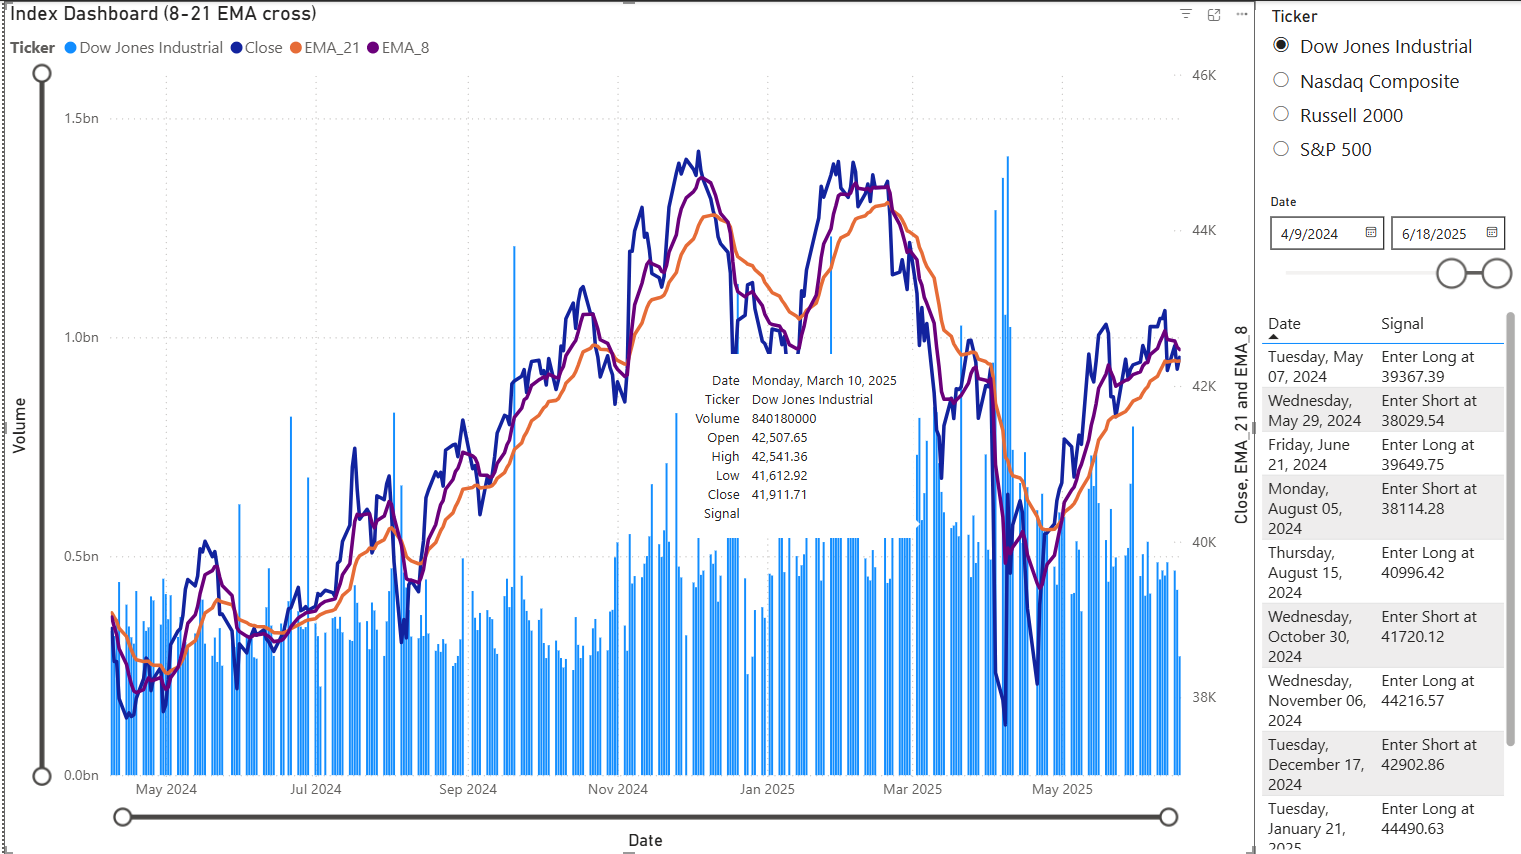

The page's visual inventory and layout, read from the dashboard file:
{"tool":"powerbi","page":{"name":"Page 1","canvas":[1280,720],"ordinal":0},"visuals":[{"type":"slicer","fields":{"Values":["dataset (2).Ticker"]},"box":[1055.5,0,224.5,158.2],"z":0},{"type":"lineStackedColumnComboChart","title":"Index Dashboard (8-21 EMA cross)","fields":{"Y":["Sum(dataset.Volume)"],"Y2":["Sum(dataset.Close)","Sum(dataset.EMA_21)","Sum(dataset.EMA_8)"],"Category":["dataset.Date"],"Series":["dataset.Ticker"]},"box":[0,0,1055,720],"z":1000},{"type":"slicer","fields":{"Values":["dataset.Date"]},"box":[1055,158,225,98],"z":2000},{"type":"tableEx","fields":{"Values":["dataset.Date","dataset.Signal"]},"box":[1055,256,225,464],"z":3000}]}

Visuals, with their boxes on the page's 1280x720 design canvas (x1, y1, x2, y2). These are canvas units, not pixel positions in the 1521x854 screenshot, which may show the page scaled, cropped or inside an application window:
slicer - dataset (2).Ticker: bbox=(1056, 0, 1280, 158)
"Index Dashboard (8-21 EMA cross)" lineStackedColumnComboChart: bbox=(0, 0, 1055, 720)
slicer - dataset.Date: bbox=(1055, 158, 1280, 256)
tableEx - dataset.Date x dataset.Signal: bbox=(1055, 256, 1280, 720)
